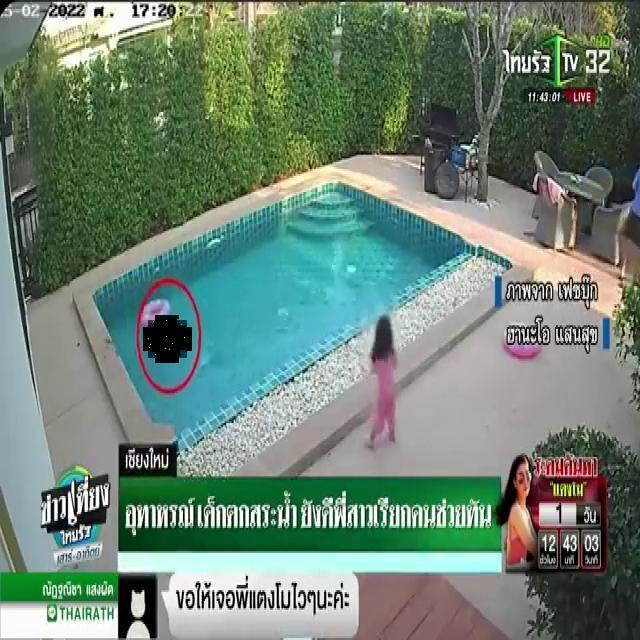Out of Water: (148, 320, 187, 358)
